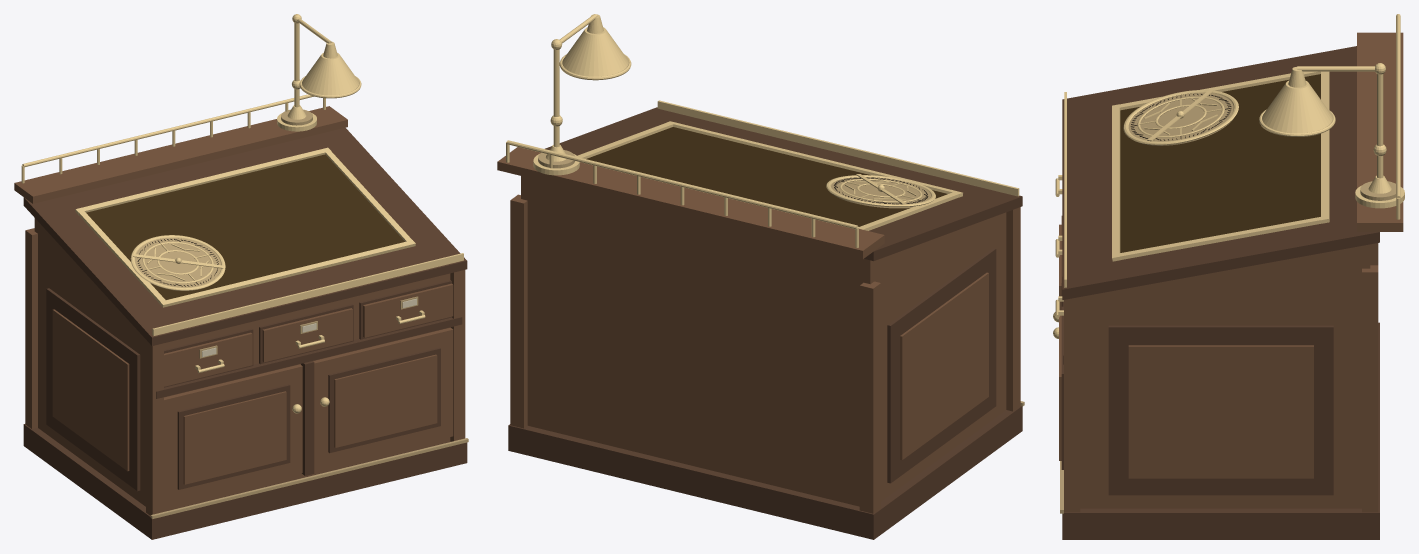
Rendered from lib_startable.glb.
3 views of the same model, side by side, from view 1: azimuth 30°, elevation 25°; view 2: azimuth 150°, elevation 25°; view 3: azimuth 270°, elevation 25° (orthographic). The views are drawn at different scales.
Parts seen in each view (by area): view 1: lib_startable; view 2: lib_startable; view 3: lib_startable.
Boxes of the visible parts, box(x1,y1,x2,y2) form: lib_startable: box(14, 14, 468, 539); lib_startable: box(497, 14, 1024, 539); lib_startable: box(1053, 14, 1404, 539).
Size of the model in its own units: 1.37 by 1.5 by 1.06.
8 materials, 1 textured.
